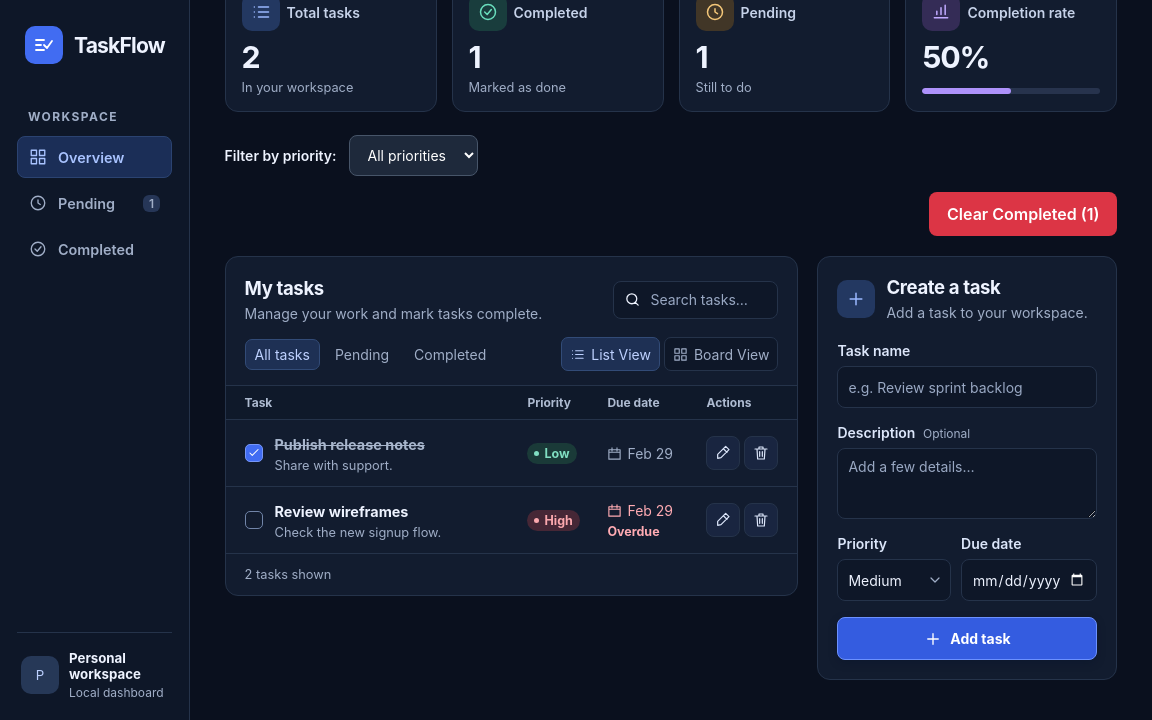
Test case: TaskFlow › updates completion, statistics, persistence, and the overdue indicator
(page scrolled)
Expected: the text "Overdue" is shown once, [608,524,660,539]
Click the checkbox named "Complete: Review wireframes".
click(254, 520)  # box [244,511,262,529]
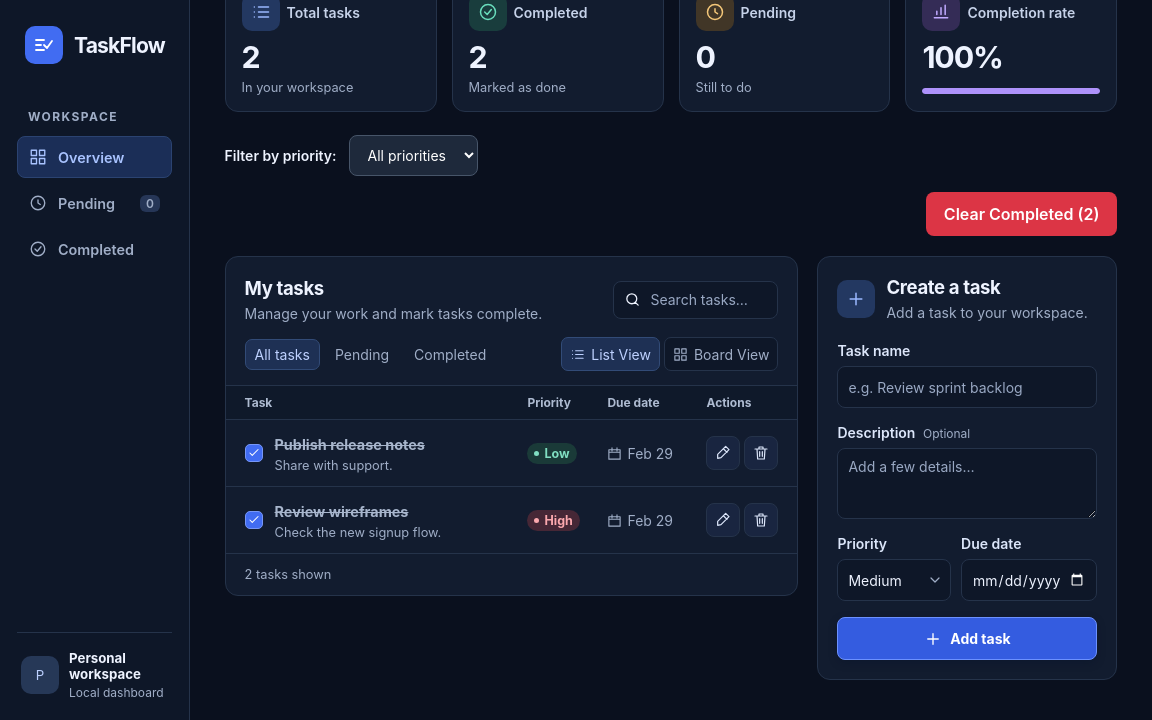
Now the checkbox named "Complete: Review wireframes" is checked
Now the element "Completion rate" shows "100%", box [922,40,1003,76]
Now the text "Overdue" is gone
Click the checkbox named "Complete: Review wireframes".
click(254, 520)  # box [244,511,262,529]
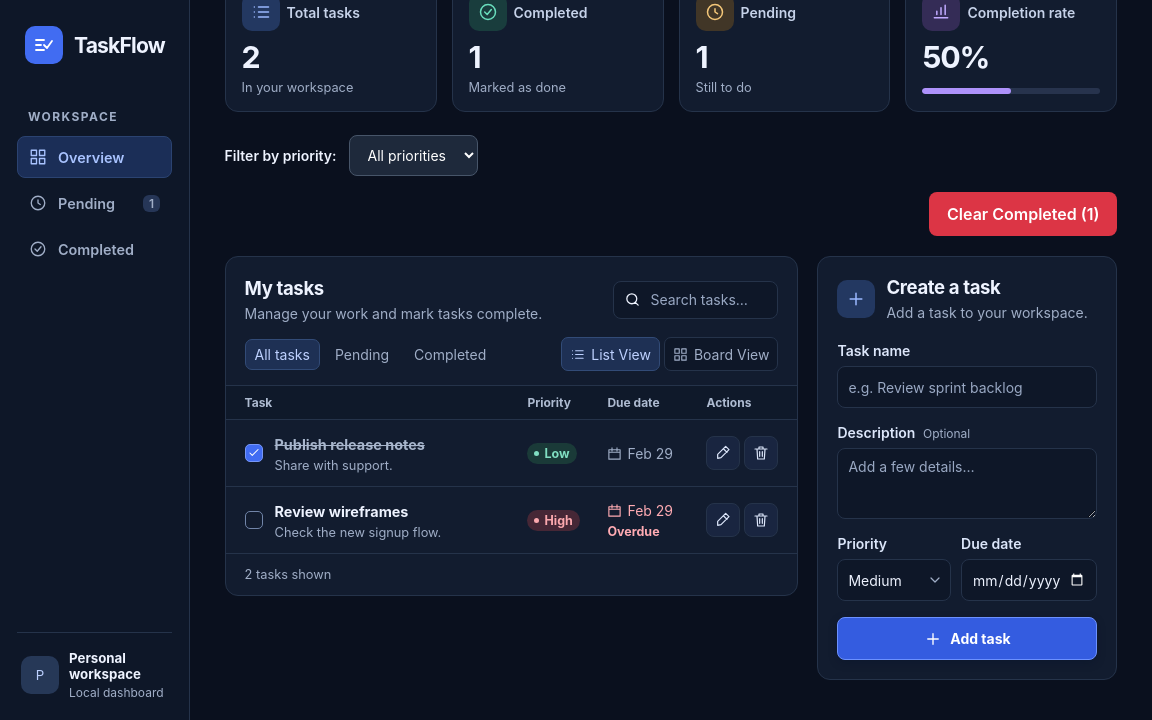
Now the element "Completion rate" shows "50%", box [922,40,989,76]
Now the text "Overdue" is shown, box [608,524,660,539]
